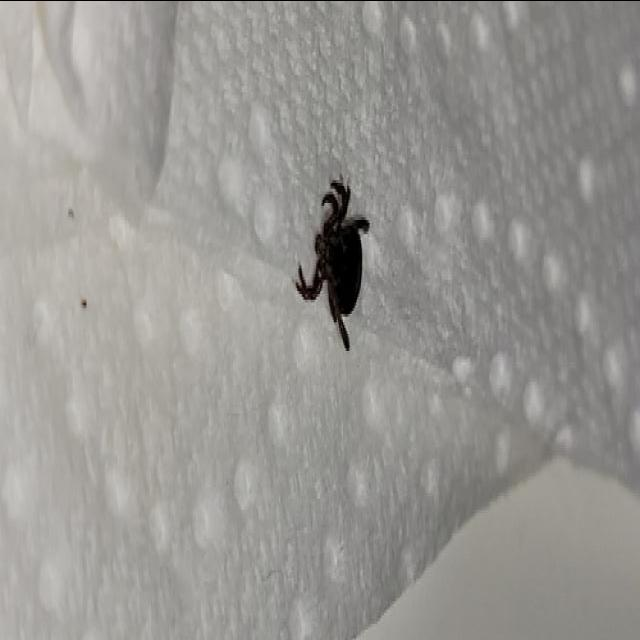Dermacentor Reticulatus-M: (297, 176, 367, 347)
